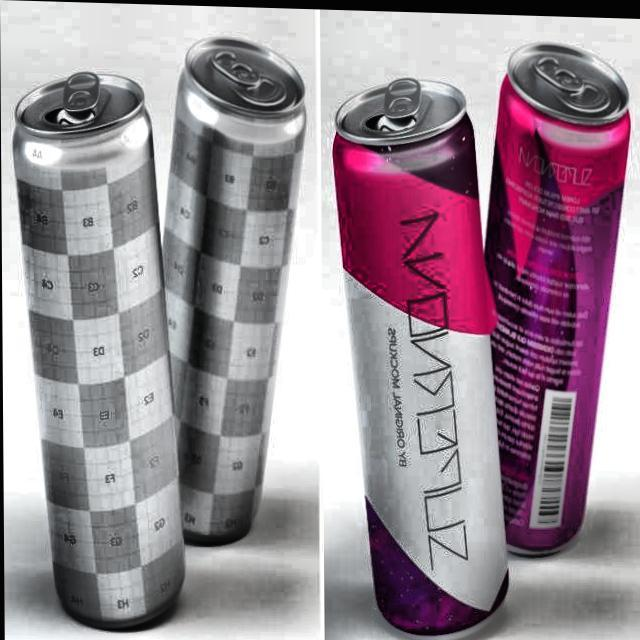litter: (7, 66, 198, 638), (326, 66, 516, 640), (467, 23, 635, 561), (144, 22, 315, 548)
